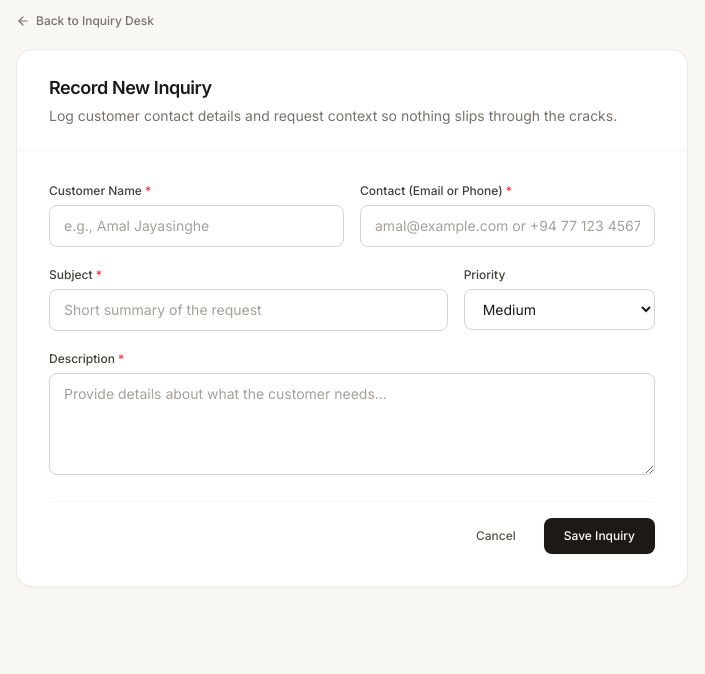
it: NewInquiryPage - Form Validation & Error States › 2. Displays API error banner when saving fails on the server
In the field labelled "Customer Name *": [196, 226] box [49,205,344,247], type "Amal Jayasinghe"
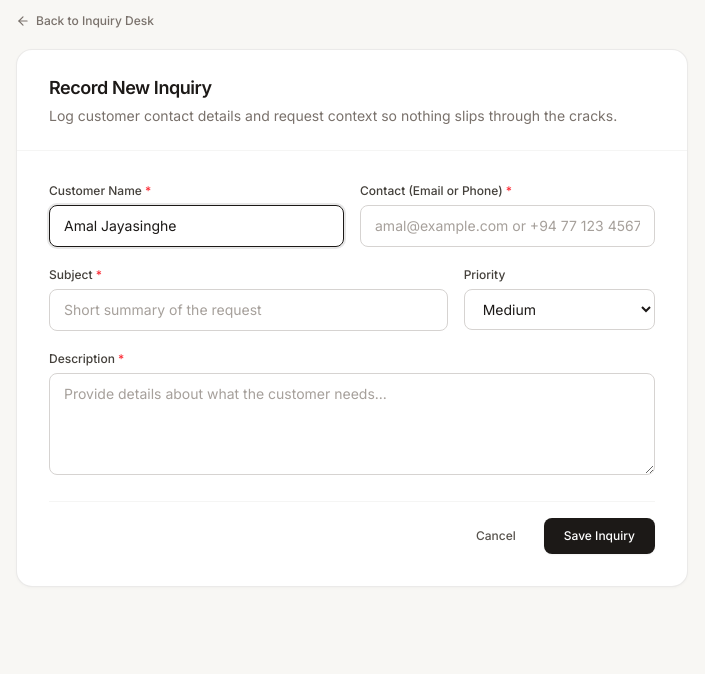
In the field labelled "Contact (Email or Phone) *": [508, 226] box [360,205,655,247], type "amal@example.com"
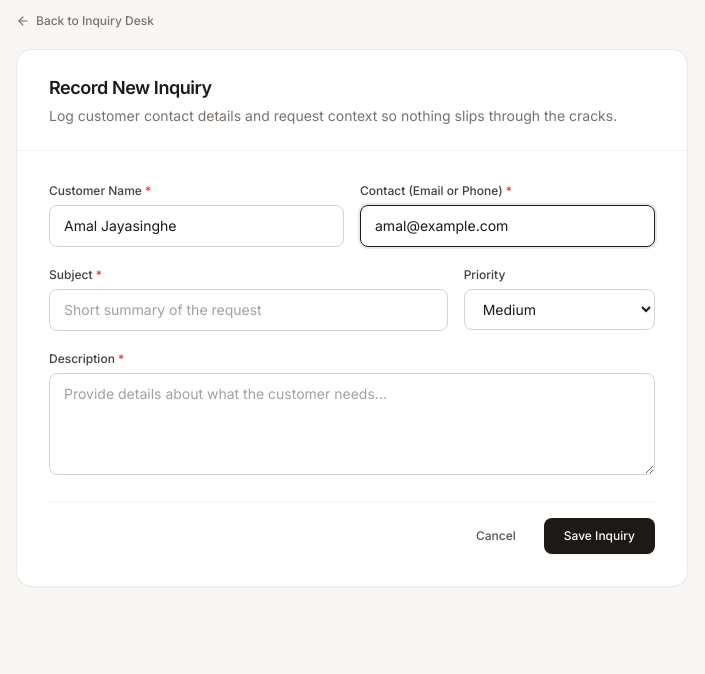
In the field labelled "Subject *": [248, 310] box [49,289,448,331], type "Catering request"
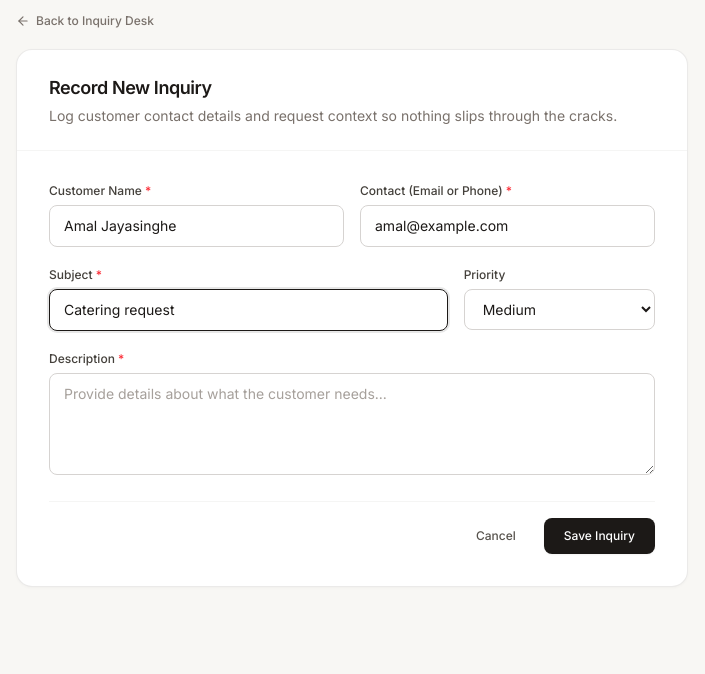
In the text box labelled "Description *": [352, 424] box [49,373,655,475], type "Need coffee and pastries for 40 people next Monday."
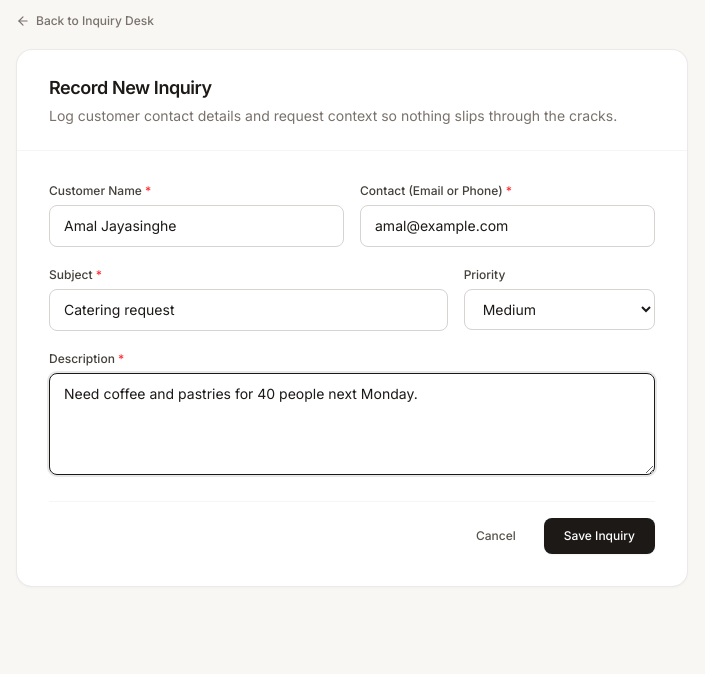
Click the button "Save Inquiry": [599, 536] box [544,518,655,554]
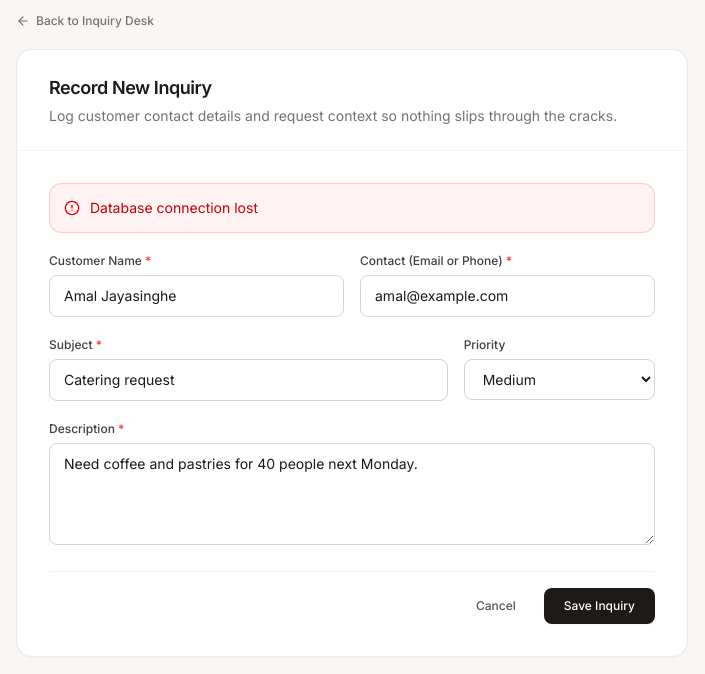
Expected: the message reads "Database connection lost", [90,199,258,216]
